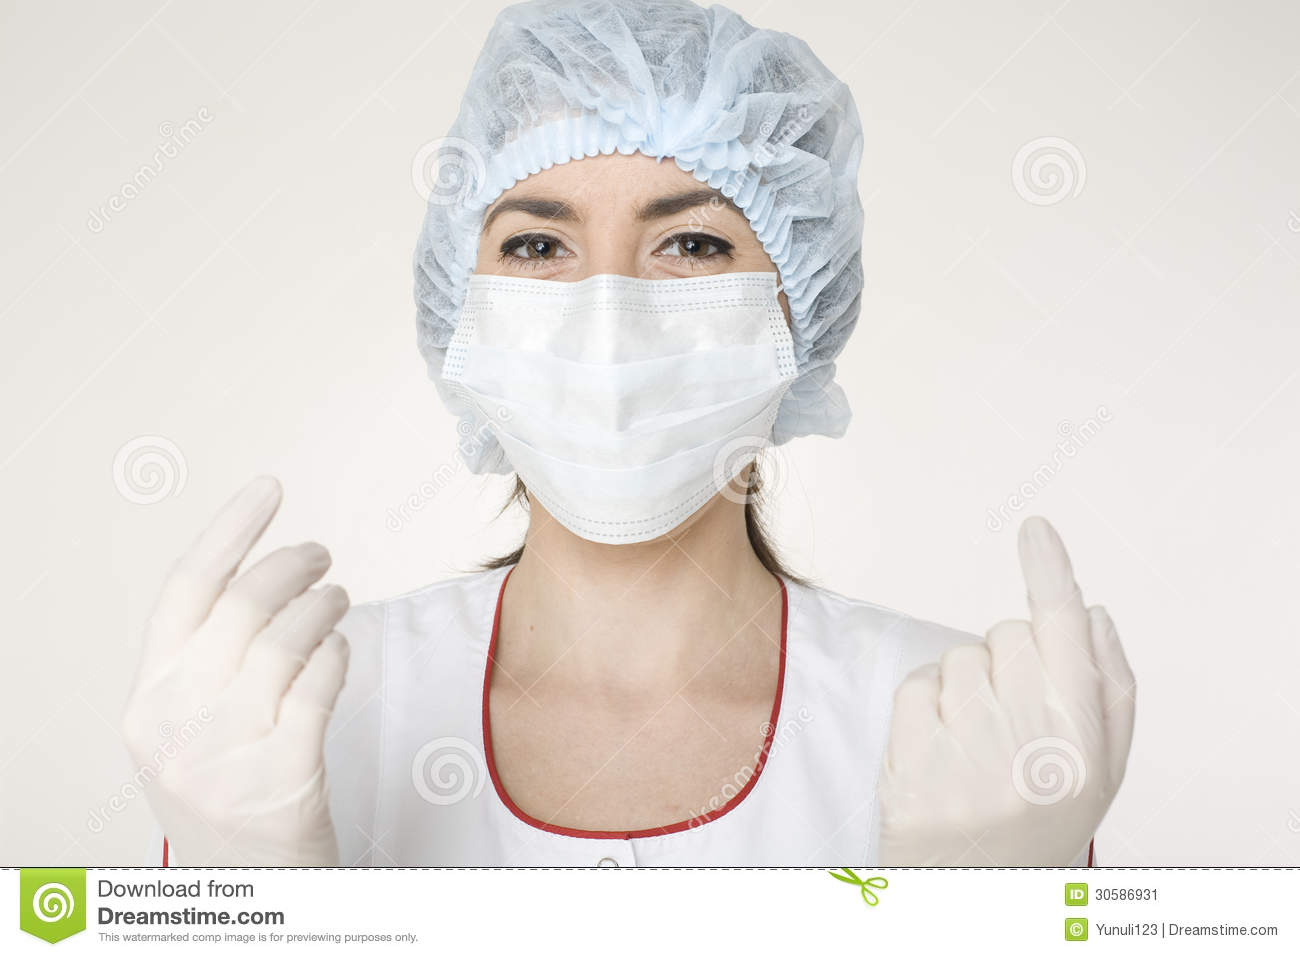mask: (451, 274, 795, 546)
